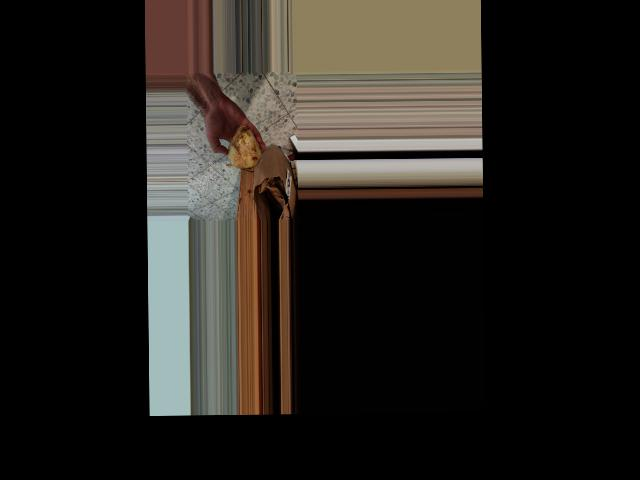onion: (226, 121, 262, 173)
